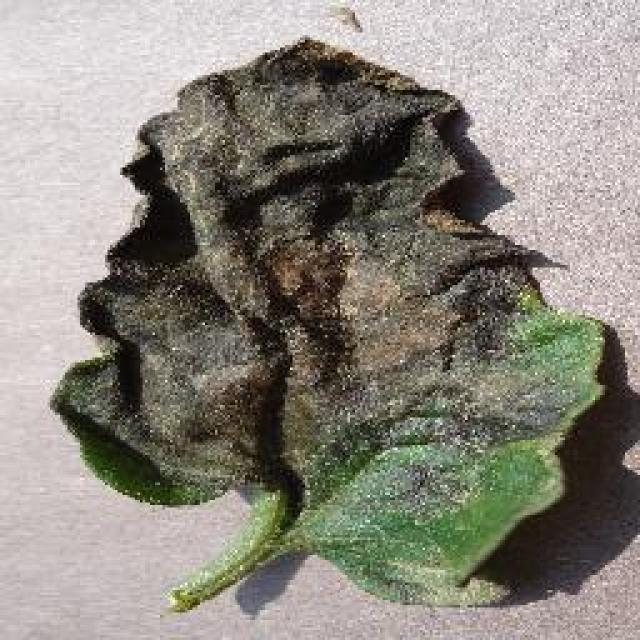leaf blight: (53, 32, 622, 609)
